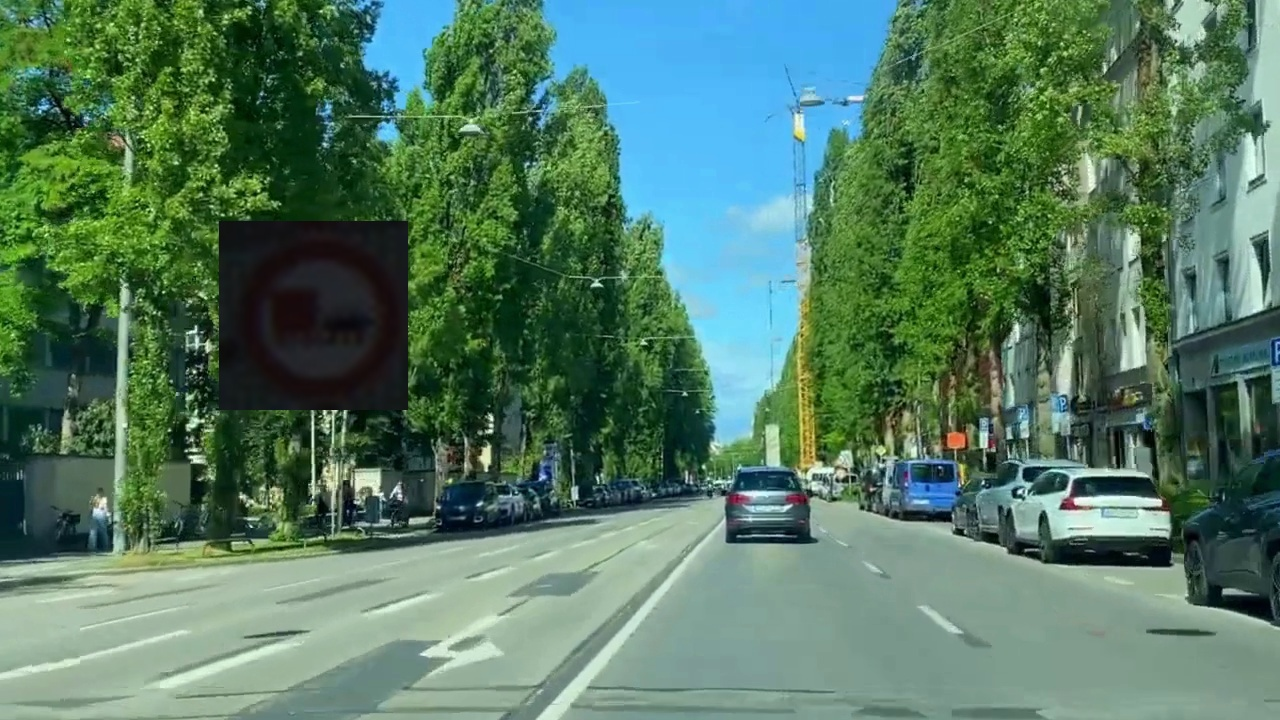No pass >3.5t: (219, 221, 408, 410)
